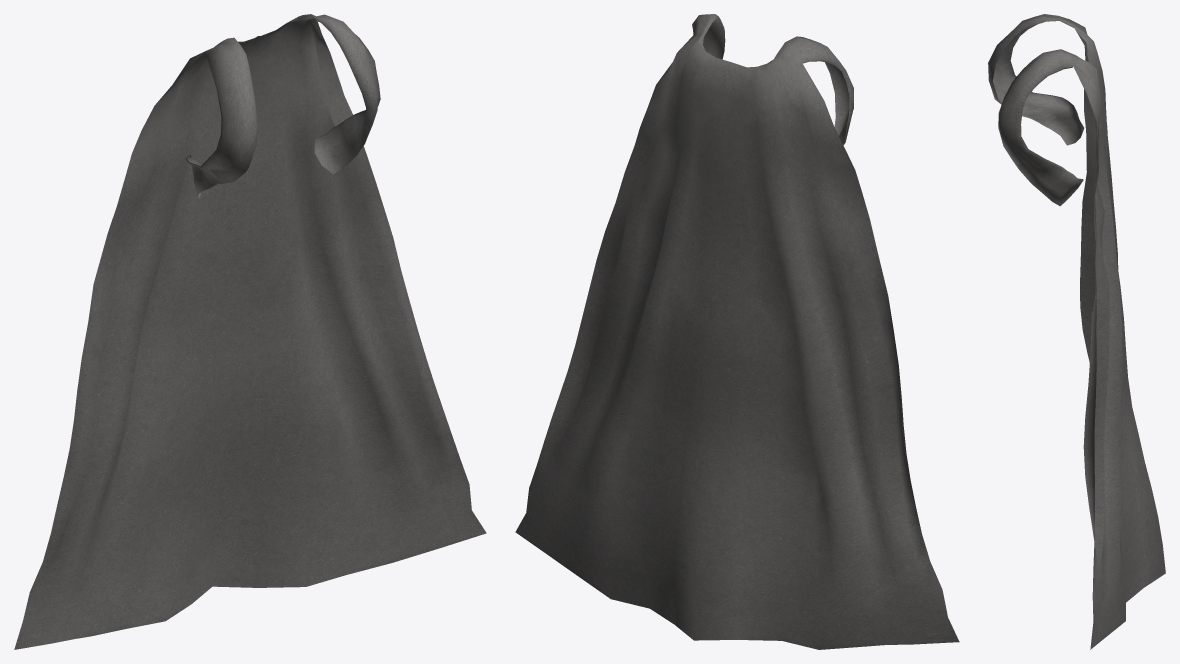
The model's file is rivendell_pauldron_cape.fbx.
3 views of the same model, side by side, from view 1: azimuth 30°, elevation 25°; view 2: azimuth 150°, elevation 25°; view 3: azimuth 270°, elevation 25° (orthographic). The views are drawn at different scales.
Parts seen in each view (by area): view 1: rivendell_pauldron_cape; view 2: rivendell_pauldron_cape; view 3: rivendell_pauldron_cape.
Boxes of the visible parts, bbox=[...] form: rivendell_pauldron_cape: bbox=[14, 14, 486, 649]; rivendell_pauldron_cape: bbox=[515, 14, 959, 649]; rivendell_pauldron_cape: bbox=[988, 14, 1165, 649].
Size of the model in its own units: 1.22 by 0.4447 by 1.5.
Materials: 1 (1 with a texture image).
